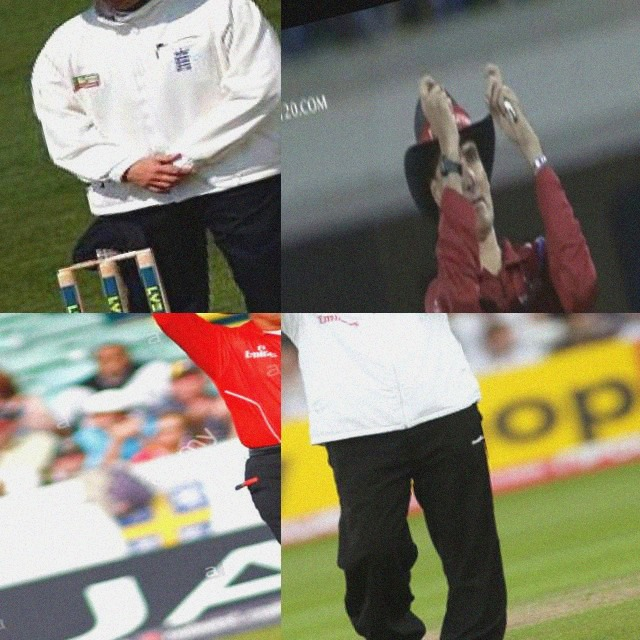No_Action: (0, 0, 281, 313)
Six: (281, 313, 640, 640), (354, 27, 640, 313), (111, 313, 281, 640)
